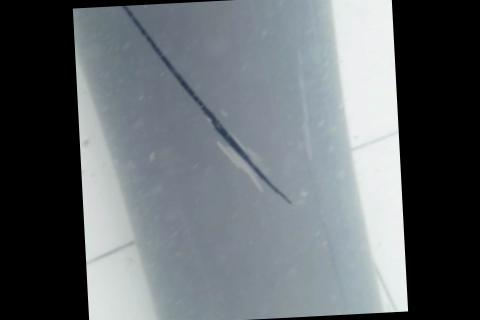keretakan: (114, 0, 293, 214)
